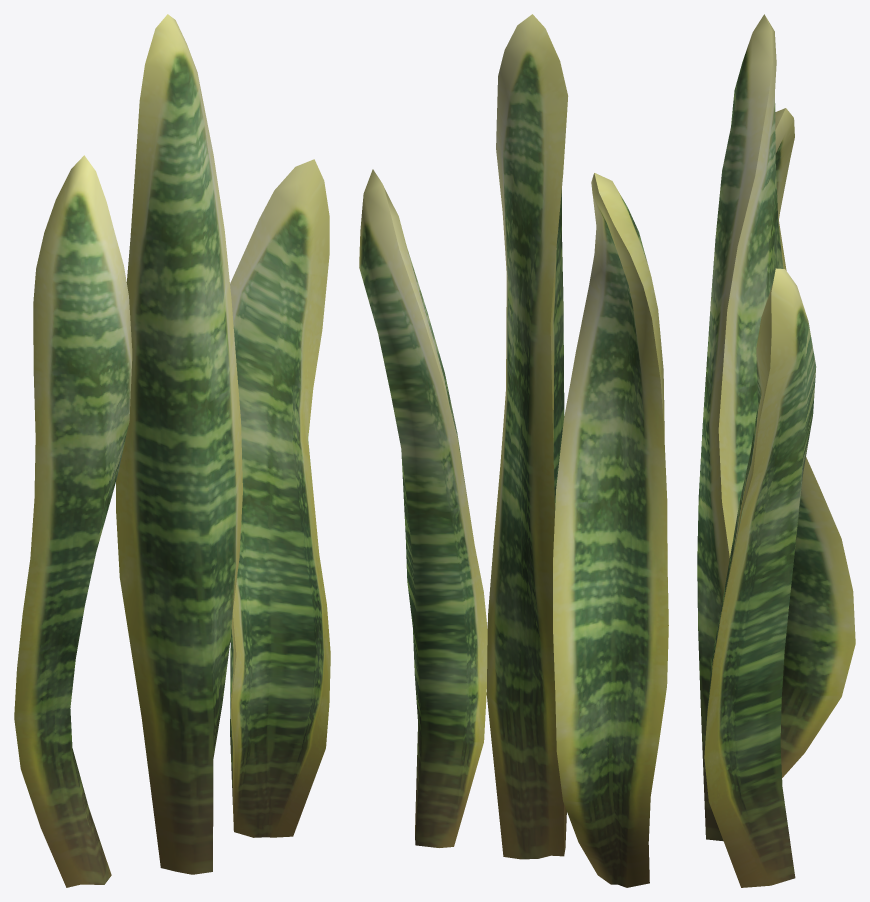
File: D_Plant_012.fbx
3 renders of one model, left to right at view 1: azimuth 30°, elevation 25°; view 2: azimuth 150°, elevation 25°; view 3: azimuth 270°, elevation 25°, orthographic. The views are drawn at different scales.
Parts seen in each view (by area): view 1: D_Plant_012; view 2: D_Plant_012; view 3: D_Plant_012.
Part boxes in pixels (x1,y1,x2,y2): D_Plant_012: (14, 14, 330, 887); D_Plant_012: (359, 14, 668, 887); D_Plant_012: (697, 14, 855, 887).
Bounding box in the file's own units: 0.3076 × 0.8076 × 0.1407.
Materials: 1 (1 with a texture image).
